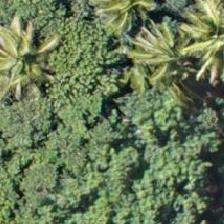coconut_tree: (172, 0, 223, 78)
